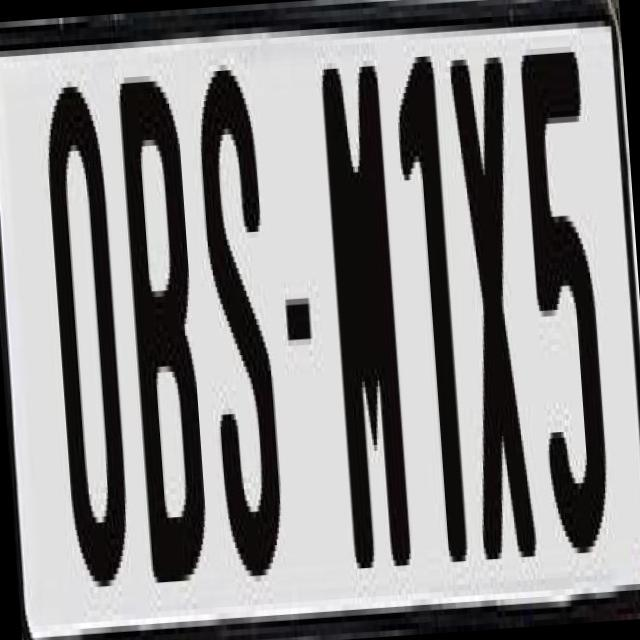0: (40, 84, 134, 588)
1: (390, 43, 474, 575)
5: (514, 52, 608, 560)
B: (112, 62, 210, 571)
M: (318, 64, 416, 568)
S: (189, 51, 288, 594)
X: (446, 51, 534, 565)
